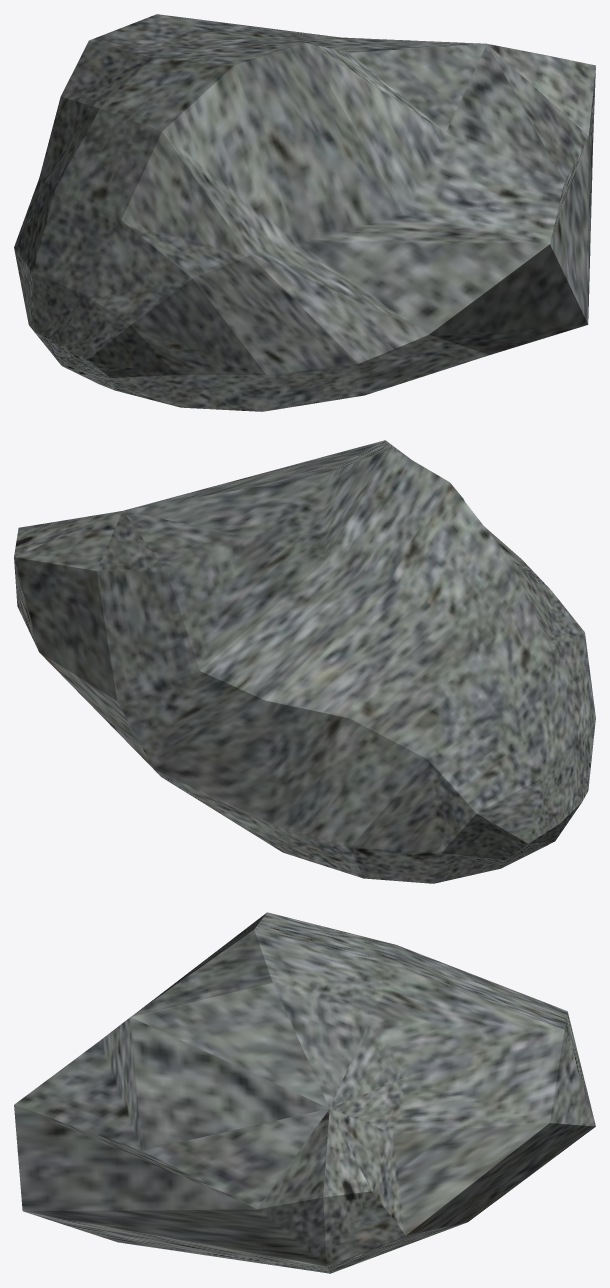
The model's file is Rock_E.fbx.
The picture shows the model from 3 angles, top to bottom: view 1: azimuth 30°, elevation 25°; view 2: azimuth 150°, elevation 25°; view 3: azimuth 270°, elevation 25°; orthographic projection. The views are drawn at different scales.
Visible parts, largest first — view 1: pSphere1; view 2: pSphere1; view 3: pSphere1.
Part boxes in pixels (x1,y1,x2,y2): pSphere1: [14, 14, 595, 411]; pSphere1: [14, 440, 595, 883]; pSphere1: [14, 912, 595, 1273].
Bounding box in the file's own units: 8.26 × 5.3 × 8.28.
1 material, 1 textured.
